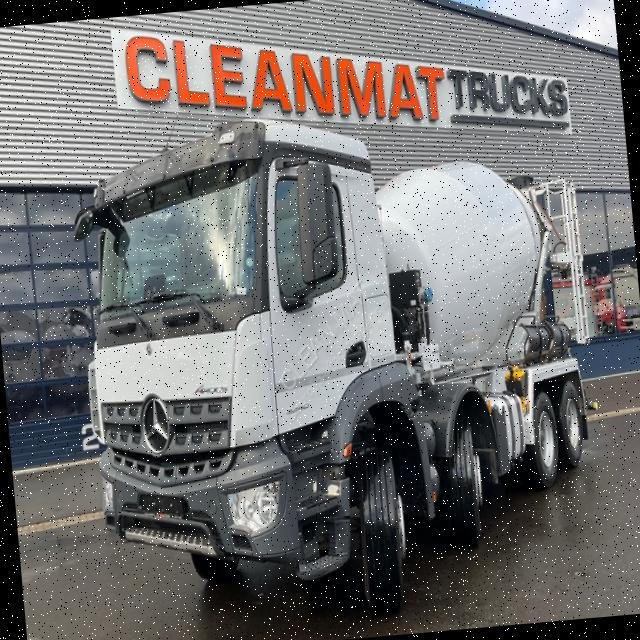Mixer Truck: (67, 91, 612, 638)
